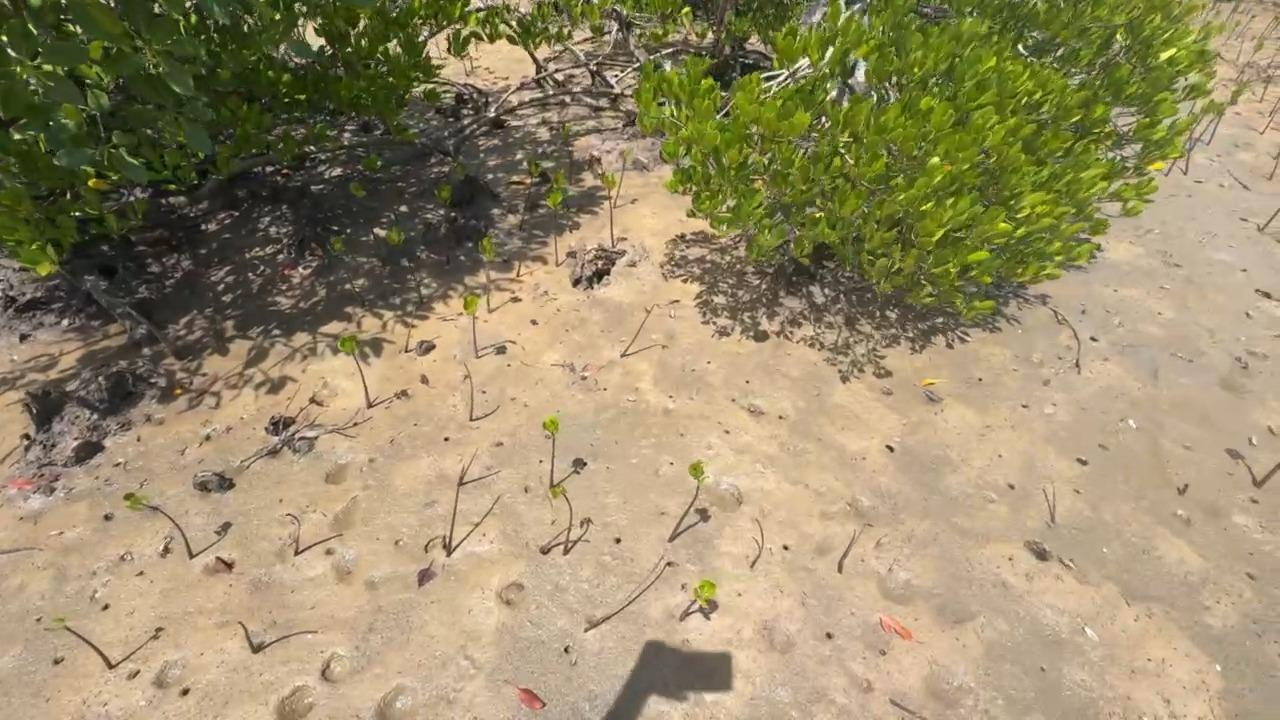Tree: (582, 560, 679, 633), (123, 491, 193, 559), (1163, 98, 1224, 176), (44, 616, 113, 669), (668, 458, 710, 542), (385, 226, 424, 302), (326, 235, 363, 306), (360, 155, 399, 220), (1207, 83, 1247, 146), (339, 335, 371, 407), (442, 464, 465, 558), (621, 304, 657, 356), (519, 158, 541, 230), (551, 483, 573, 554), (679, 578, 715, 621), (435, 183, 454, 263), (350, 183, 376, 240), (541, 415, 561, 488), (1233, 38, 1266, 82), (479, 235, 497, 310), (599, 172, 616, 246), (463, 294, 482, 358), (547, 190, 563, 265), (613, 147, 632, 208), (548, 167, 570, 211), (540, 524, 571, 552), (1260, 64, 1279, 104), (1186, 112, 1198, 174), (461, 362, 473, 420), (284, 513, 300, 555), (1234, 13, 1256, 41), (1257, 206, 1280, 232), (237, 621, 256, 652), (1261, 106, 1280, 134), (1041, 487, 1053, 522), (1224, 20, 1239, 43), (1268, 151, 1280, 179), (751, 537, 761, 567), (1269, 96, 1280, 117)
